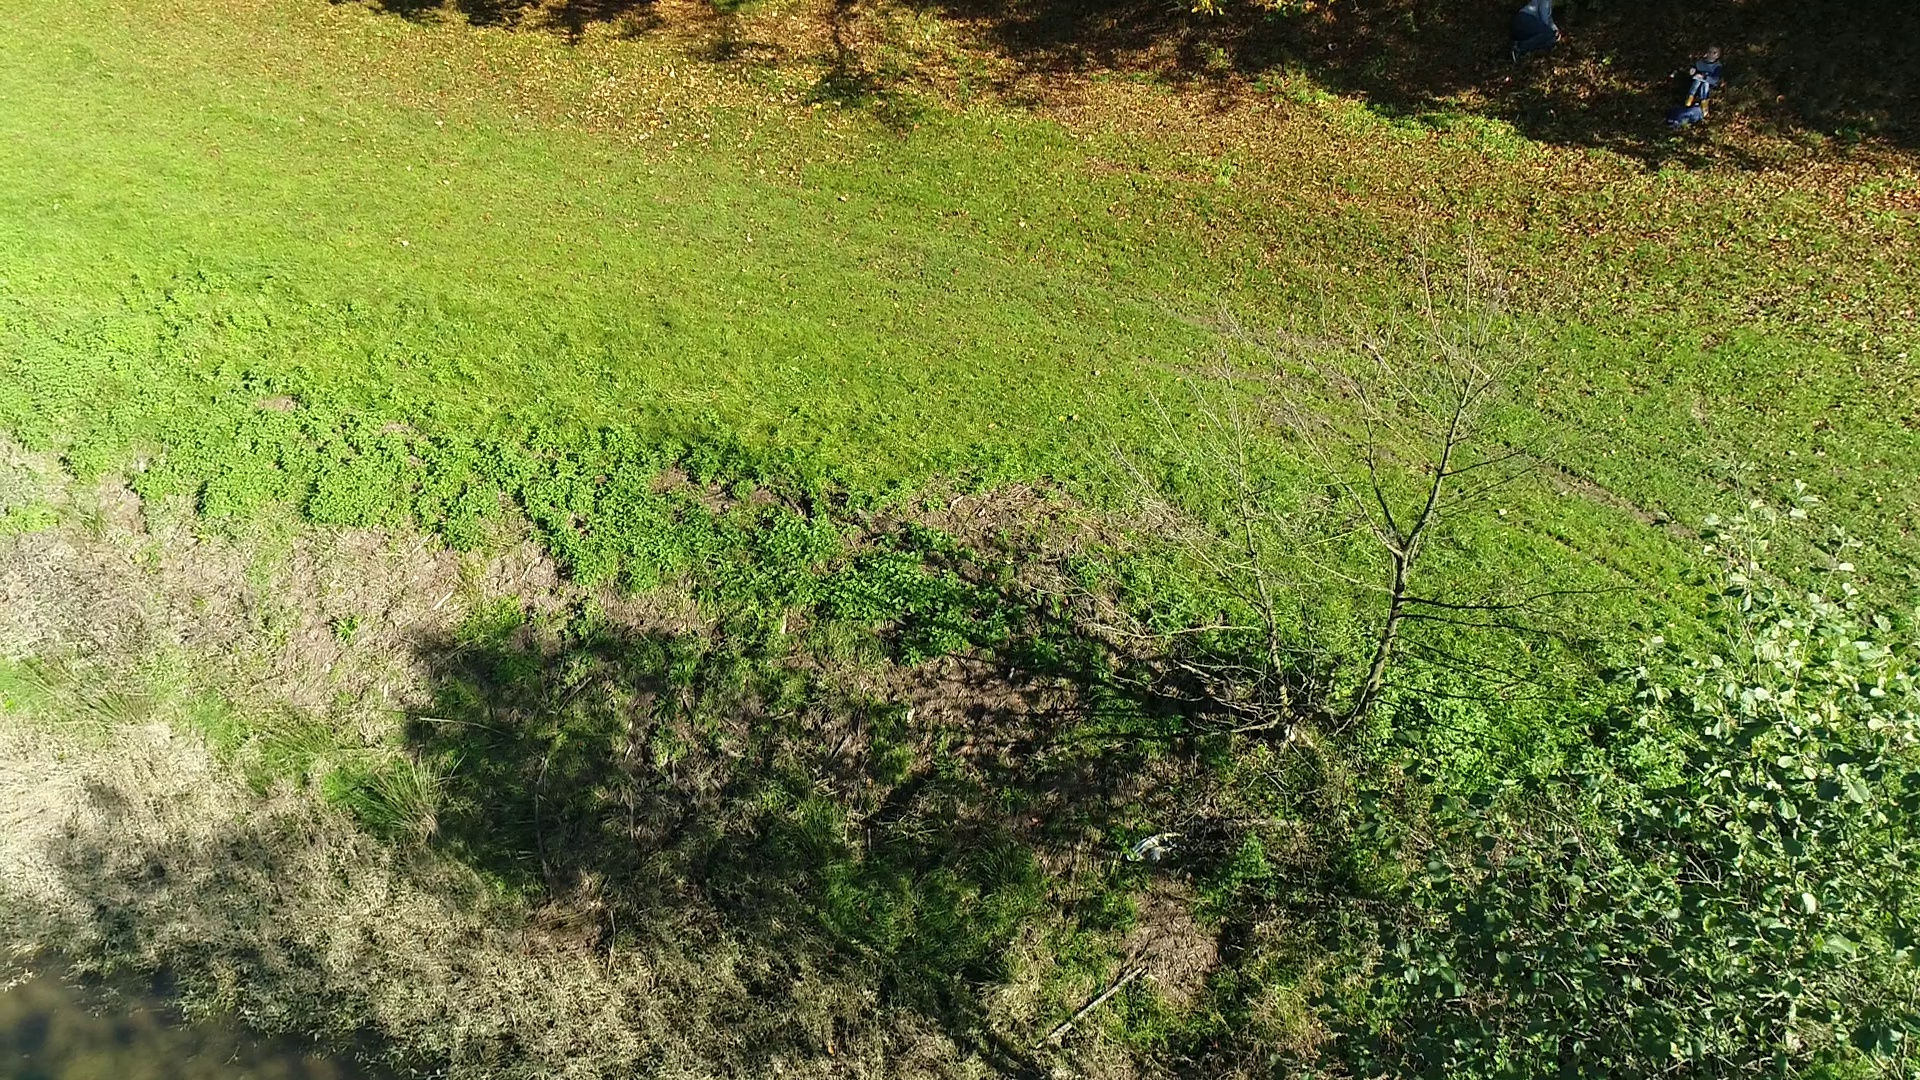person: (1511, 1, 1562, 63), (1684, 42, 1723, 121)
